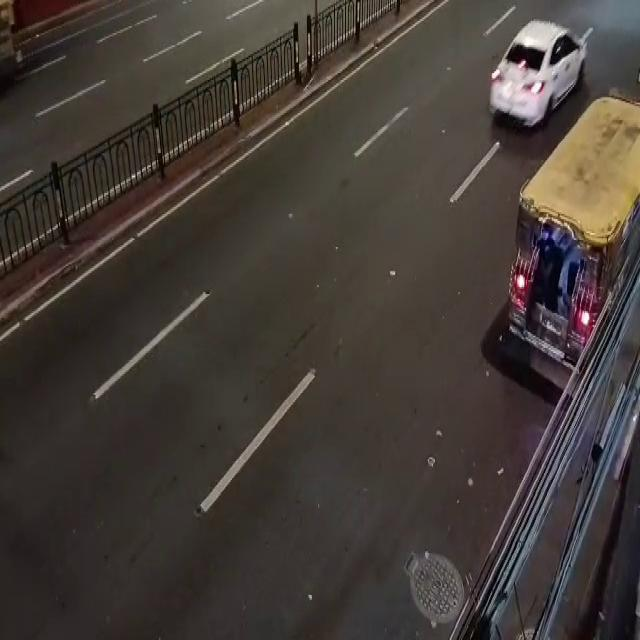car: (491, 13, 587, 121)
jeepney: (494, 92, 639, 417)
